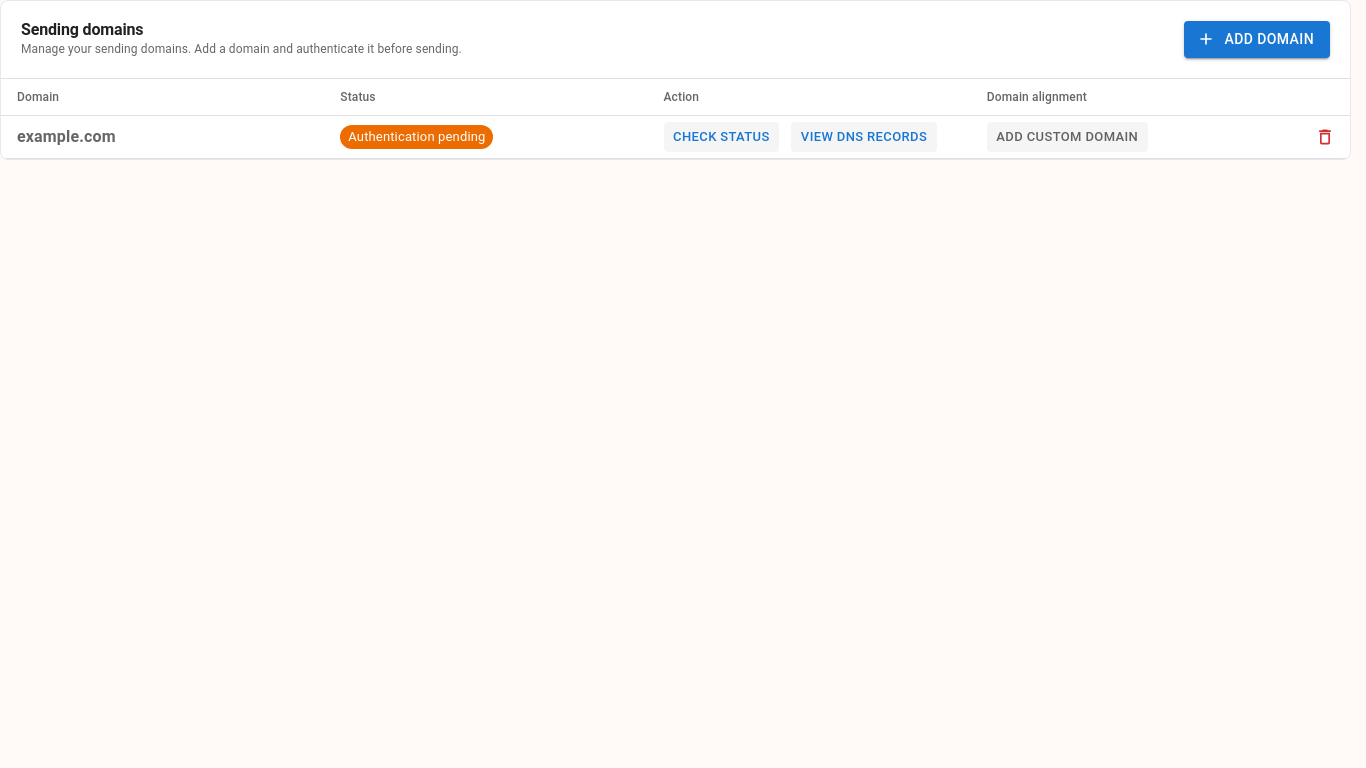
Test case: Manual DNS setup › links to the DNS host when it is known
Click the button "View DNS records" at (864, 137), box x1=791 y1=122 x2=937 y2=152
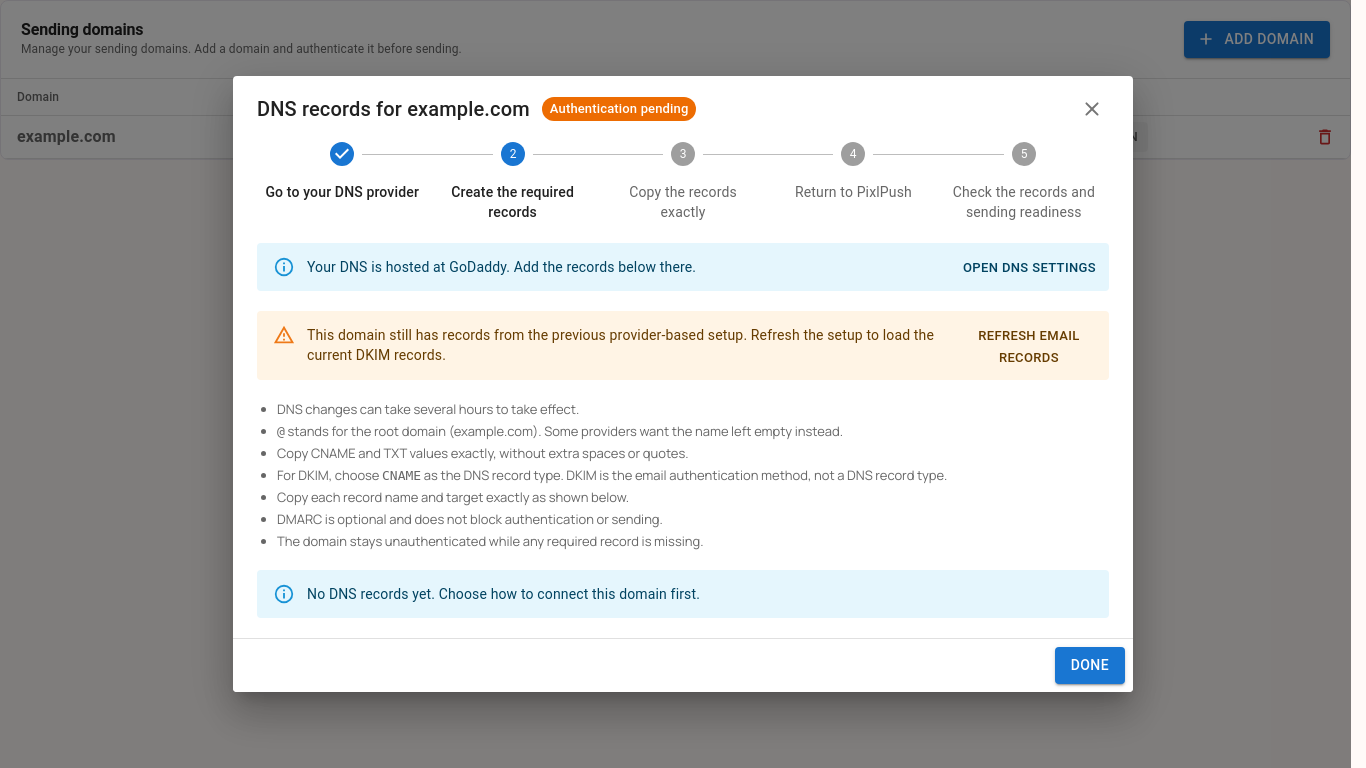
Expected: the text "Your DNS is hosted at GoDaddy. Add the records below there." is shown, x1=307 y1=258 x2=696 y2=274
